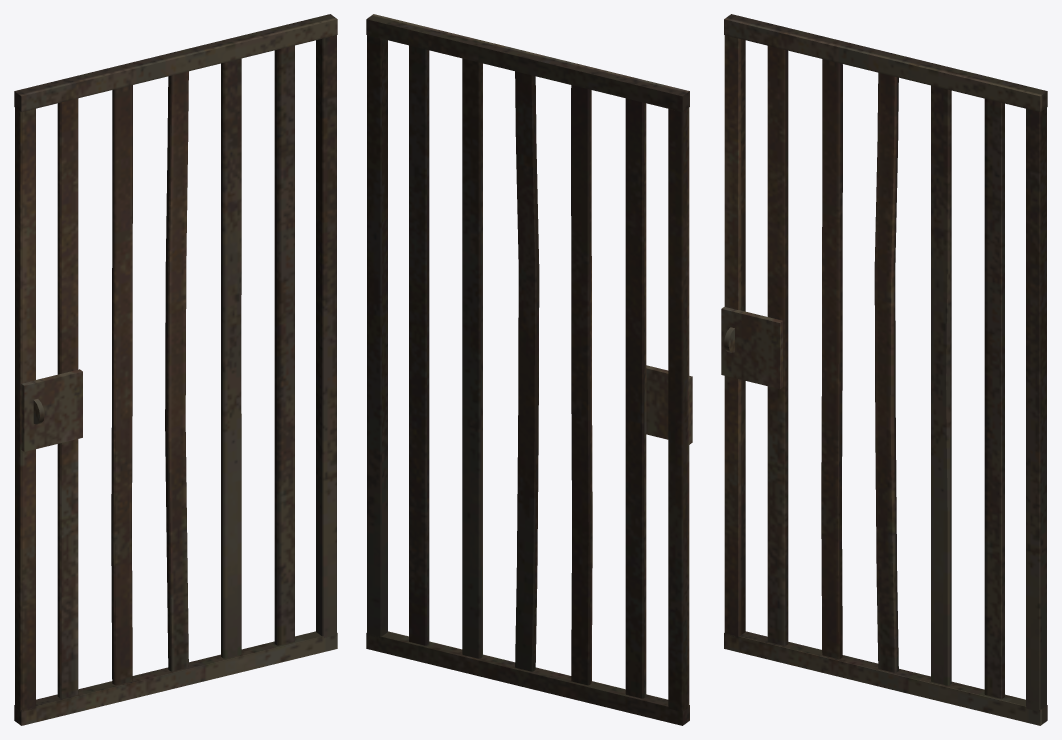
File: GameObject.fbx
3 views of the same model, side by side, from view 1: azimuth 30°, elevation 25°; view 2: azimuth 150°, elevation 25°; view 3: azimuth 330°, elevation 25° (orthographic).
Parts seen in each view (by area): view 1: door01; view 2: door01; view 3: door01.
Boxes of the visible parts, <box> form: door01: <box>14,14,337,725</box>; door01: <box>366,14,692,725</box>; door01: <box>721,14,1047,725</box>.
Size of the model in its own units: 0.0105 by 0.02 by 0.000955.
